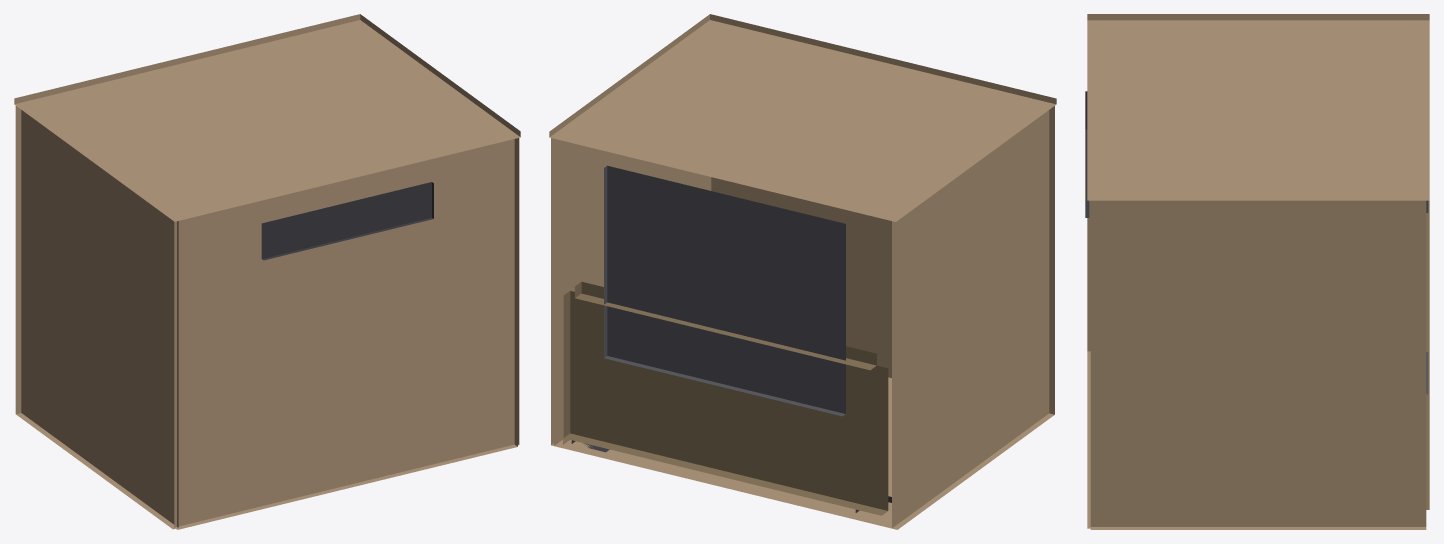
File: cabinet.gltf
3 renders of one model, left to right at view 1: azimuth 30°, elevation 25°; view 2: azimuth 150°, elevation 25°; view 3: azimuth 270°, elevation 25°, orthographic. The views are drawn at different scales.
Visible parts, largest first — view 1: cabinet; view 2: cabinet; view 3: cabinet.
Part boxes in pixels (x1,y1,x2,y2): cabinet: (14,14,520,529); cabinet: (549,14,1056,529); cabinet: (1085,14,1429,529).
Size of the model in its own units: 0.61 by 0.53 by 0.493.
